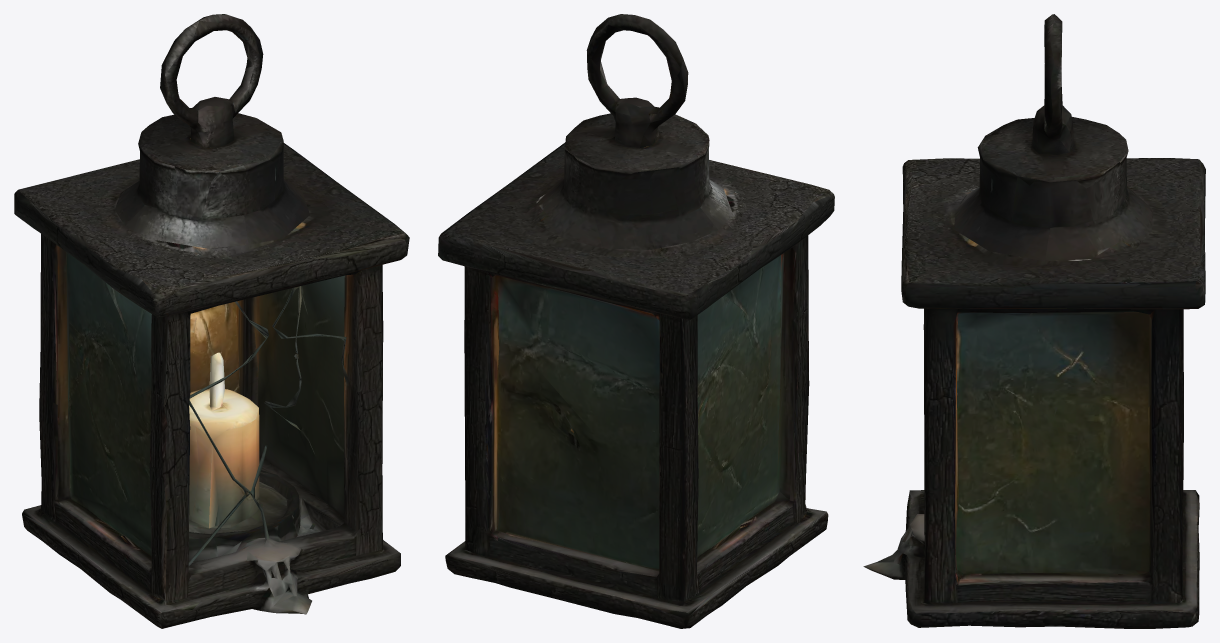
File: lantern.glb
3 views of the same model, side by side, from view 1: azimuth 30°, elevation 25°; view 2: azimuth 150°, elevation 25°; view 3: azimuth 270°, elevation 25° (orthographic). The views are drawn at different scales.
Visible parts, largest first — view 1: lantern; view 2: lantern; view 3: lantern.
Part boxes in pixels (x1,y1,x2,y2): lantern: (14, 14, 409, 628); lantern: (438, 14, 834, 628); lantern: (863, 14, 1205, 628).
Bounding box in the file's own units: 0.4885 × 0.9795 × 0.5509.
Materials: 1 (1 with a texture image).
